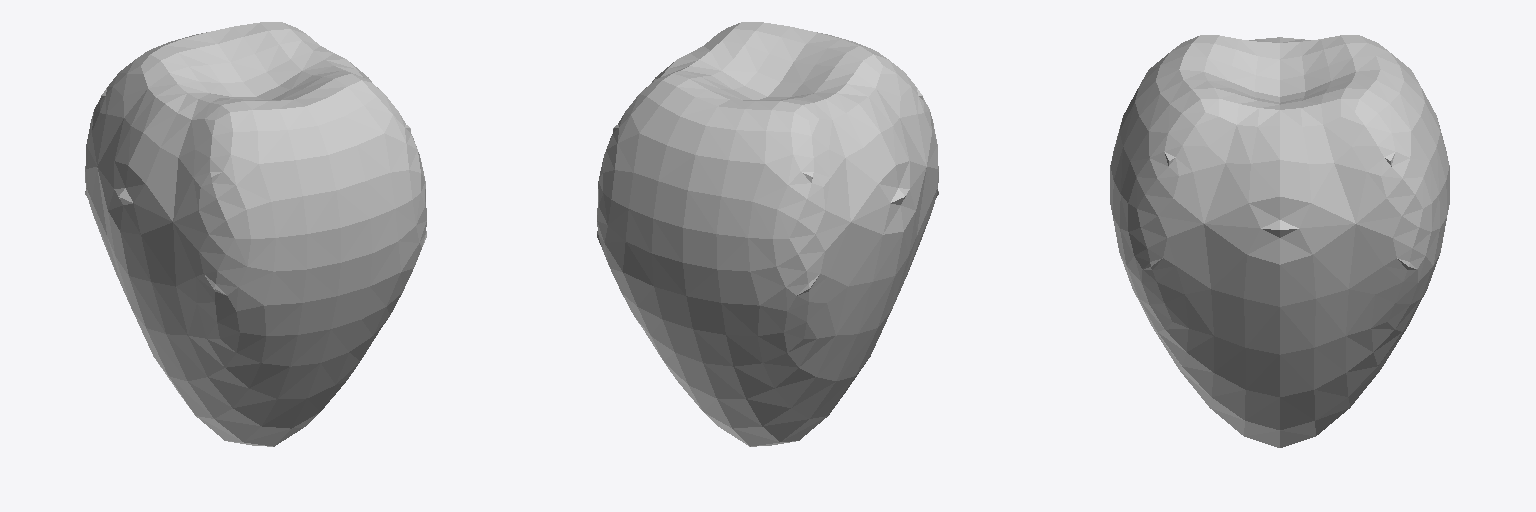
File: strawberry.obj
3 renders of one model, left to right at view 1: azimuth 30°, elevation 25°; view 2: azimuth 150°, elevation 25°; view 3: azimuth 270°, elevation 25°, orthographic.
Bounding box in the file's own units: 2.03 × 2.69 × 2.18.